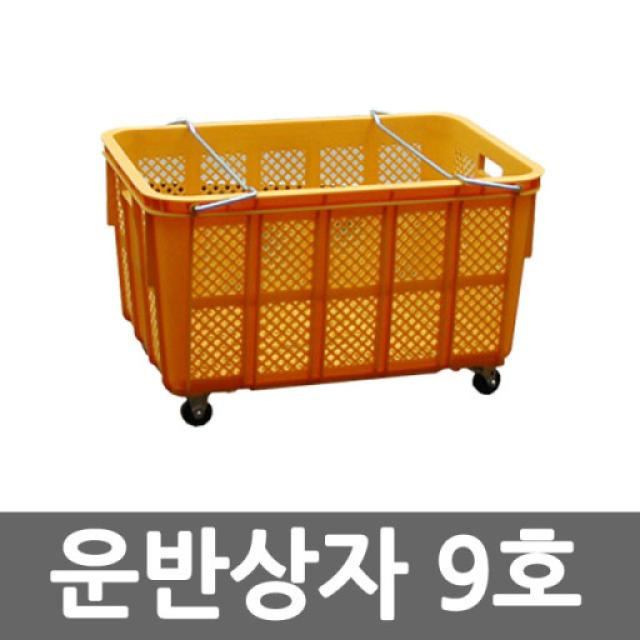basket: (97, 81, 568, 429)
